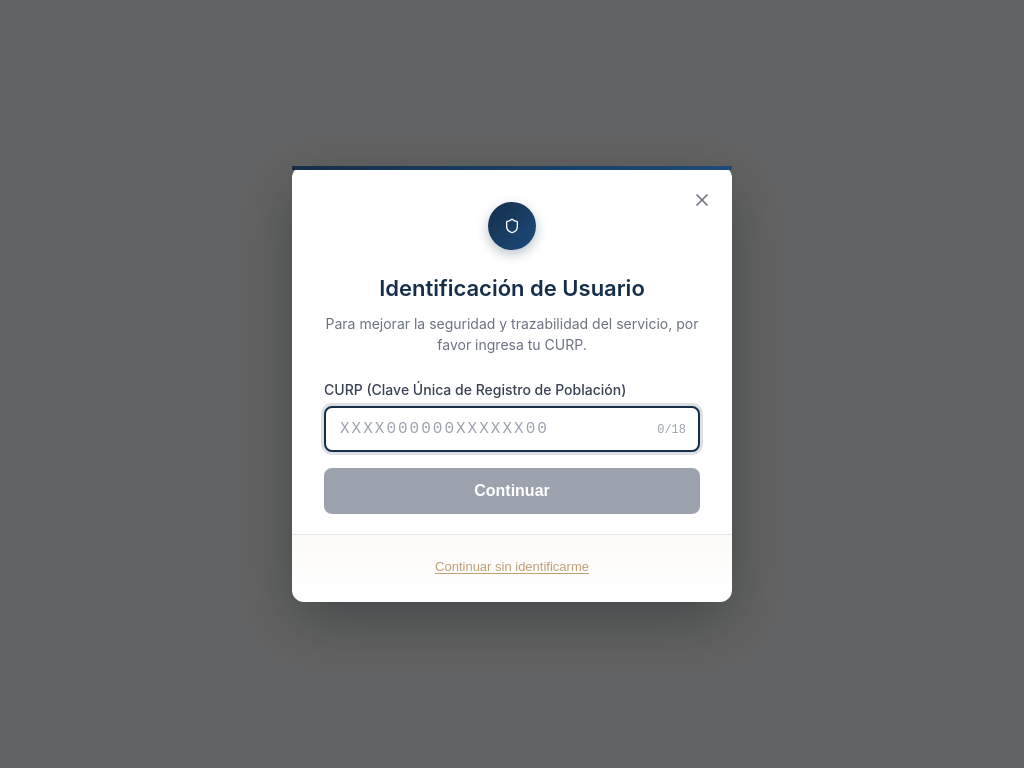
Test case: CurpModal › should handle login error
Type "GARC850101HDFRRL09" into the field with placeholder "XXXX000000XXXXXX00" at [512, 429], box [324,406,700,452]
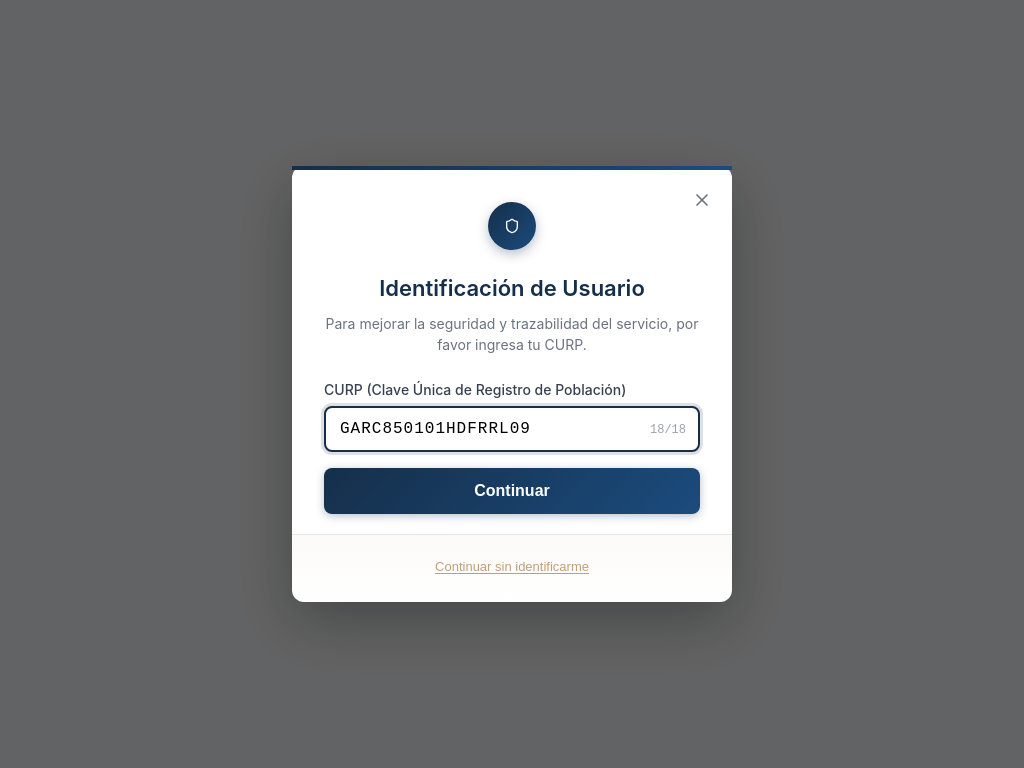
Click the button "Continuar" at [512, 491], box [324,468,700,514]
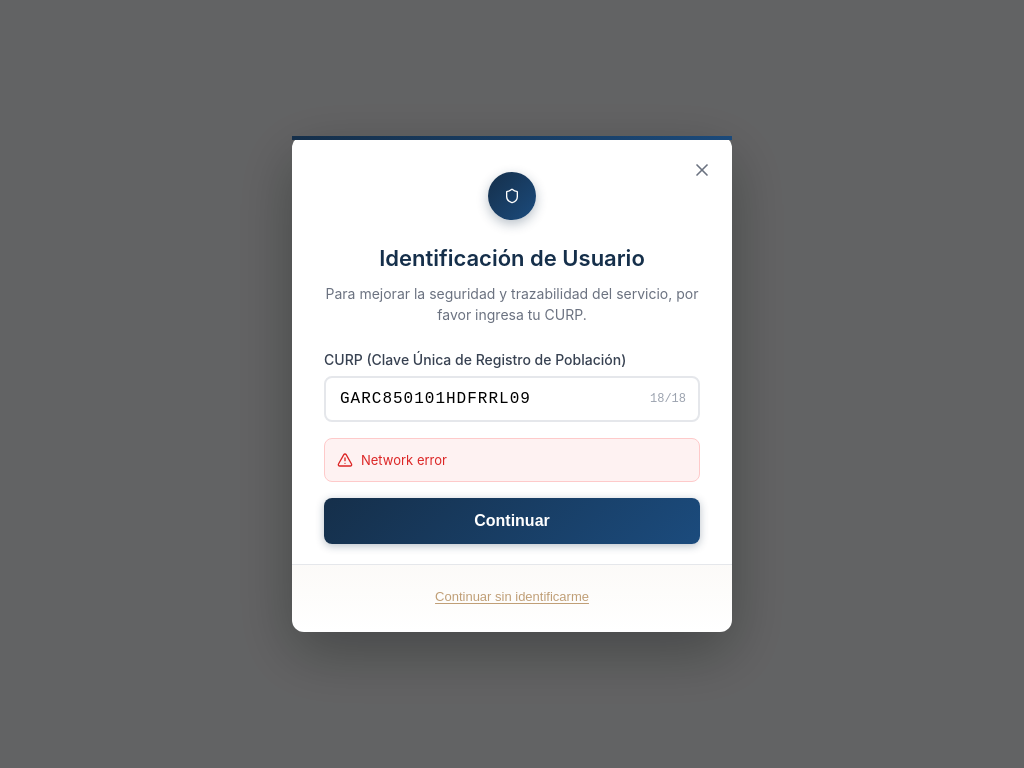
Expected: the text "Network error" is shown, [361,451,447,469]
